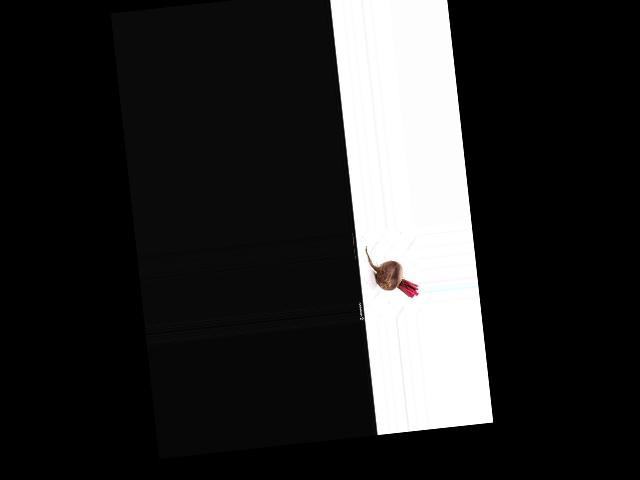beet: (365, 240, 418, 301)
